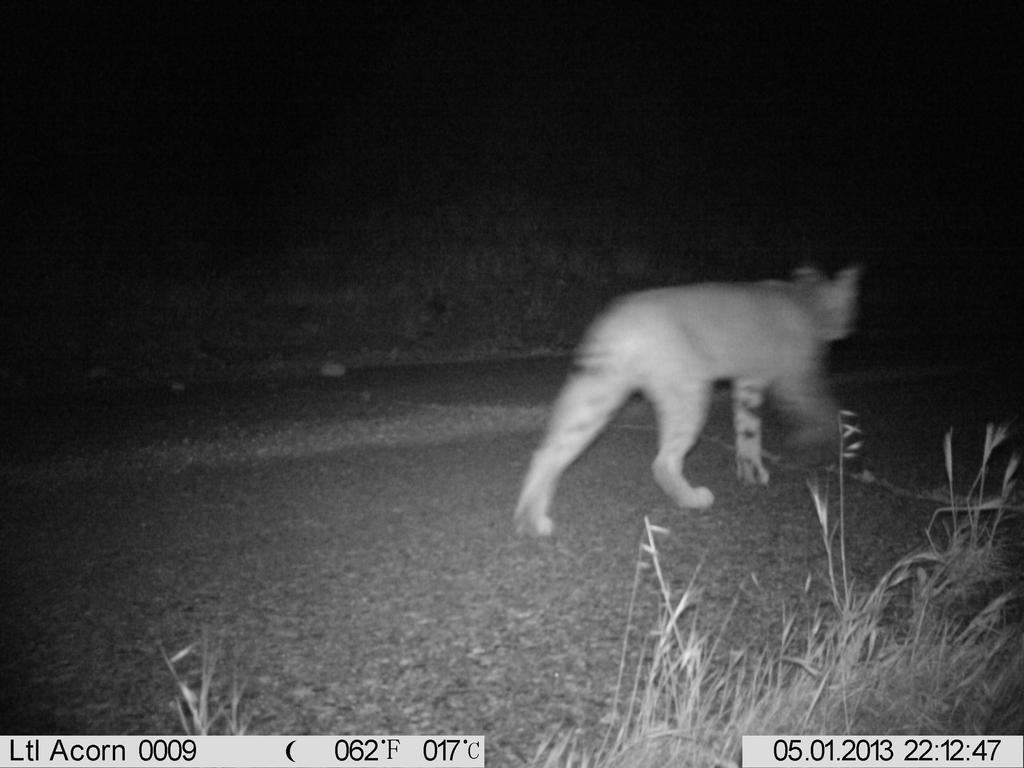bobcat: (507, 255, 881, 545)
